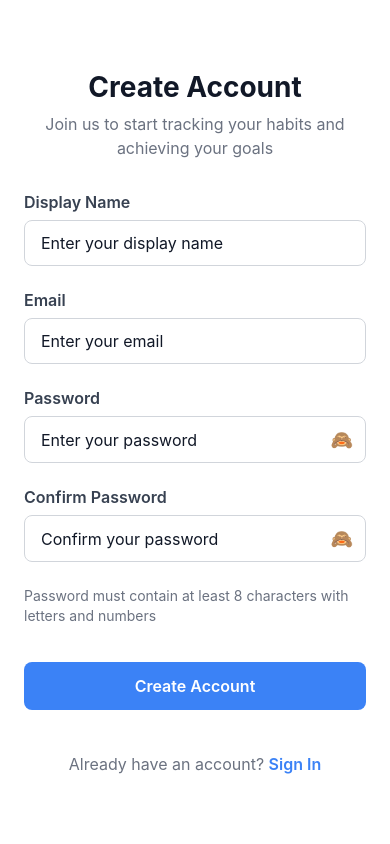
Test: SignUpScreen › Form Validation › shows error when display name is too short
This screenshot has width=390, height=844.
Step 1. Type "A" into the field with placeholder "Enter your display name" → (195, 243), box [24,220,366,266]
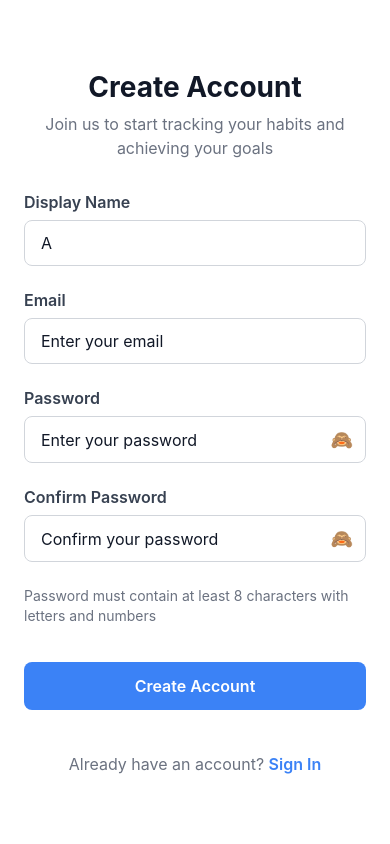
Step 2. Click the element with test id "signup-button" → (195, 686), box [24,662,366,710]
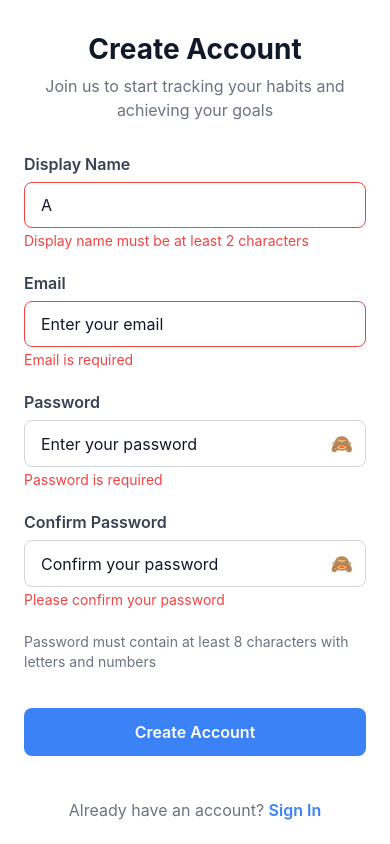
Expected: the text "Display name must be at least 2 characters" is shown, [24,232,309,249]
